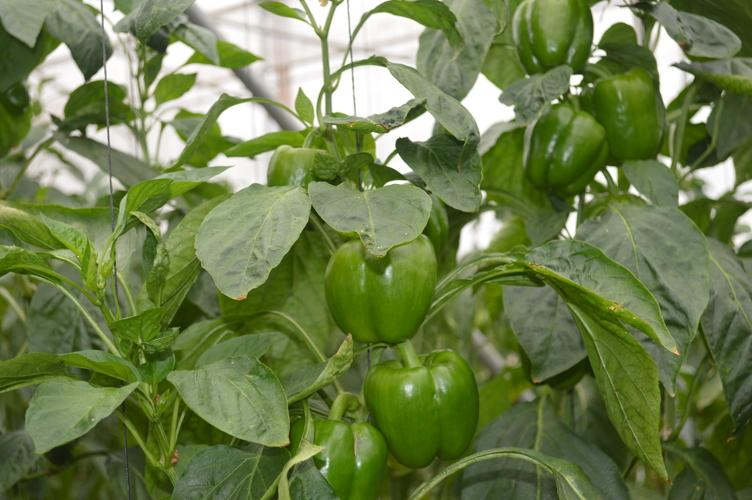BellPepper: (362, 348, 489, 464), (318, 235, 444, 344), (276, 403, 387, 500), (523, 94, 609, 210), (585, 68, 669, 166), (513, 1, 599, 80), (259, 142, 341, 210)
